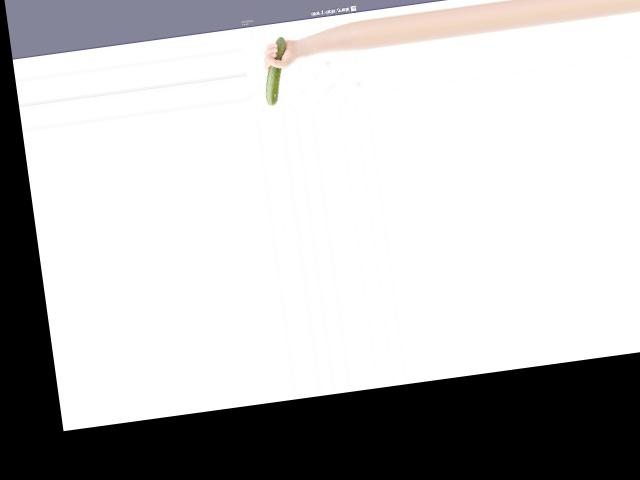cucumber: (257, 36, 292, 105)
